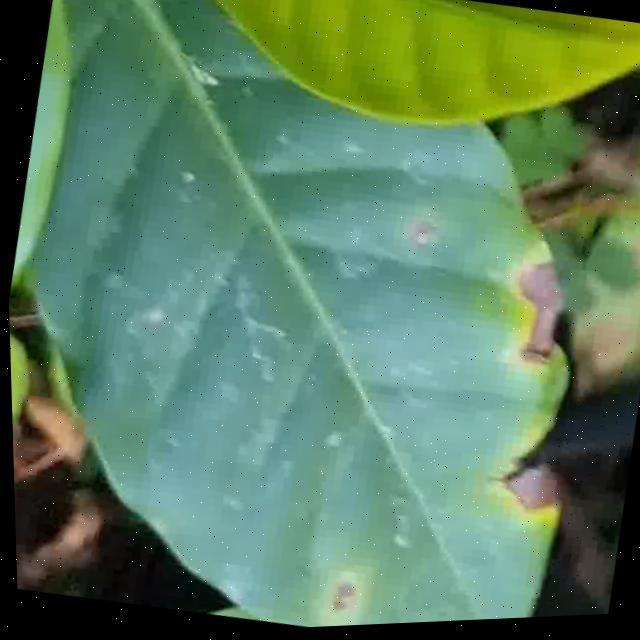leaves: (17, 0, 578, 632)
